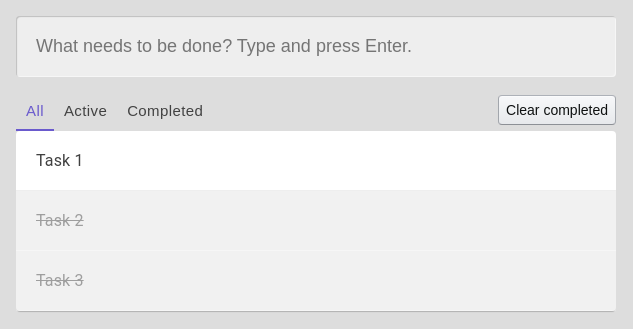
Test: Only completed tasks are displayed on the Completed tab.
Click the button "Completed": (165, 110) [117,92,213,129]
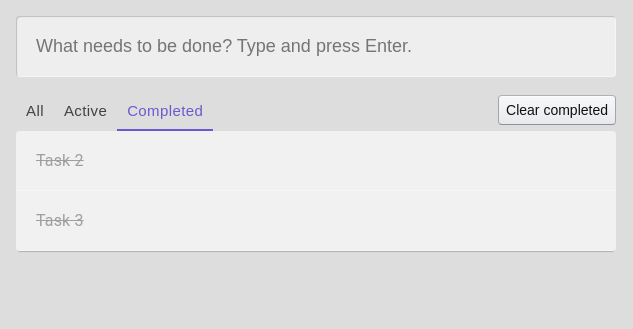
expect the number of list items is 2: met, box [16,131,616,191]; [16,191,616,251]
